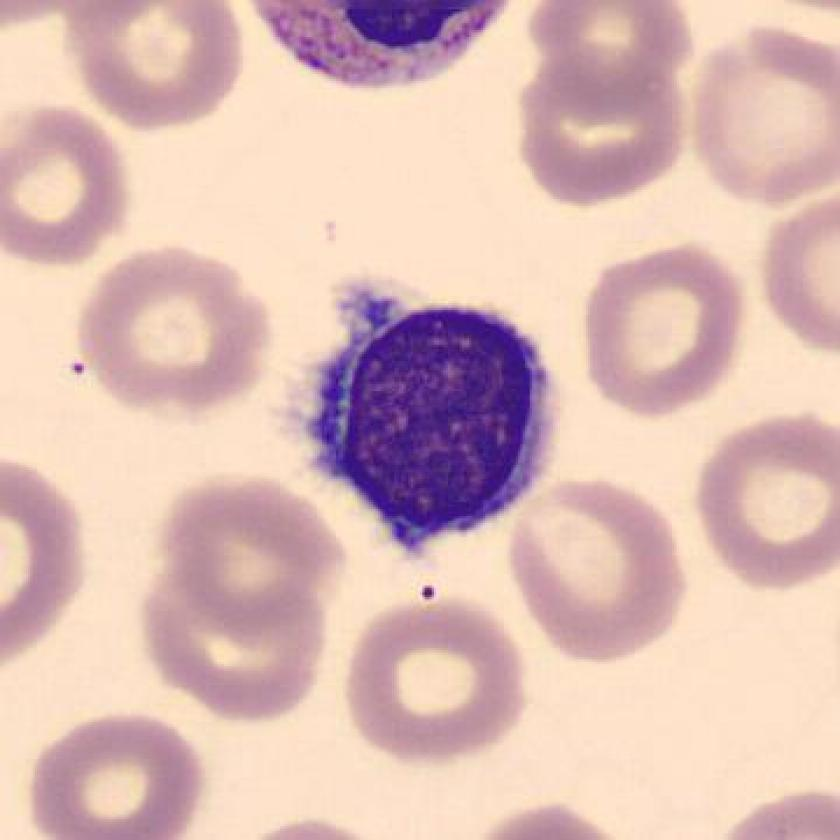lymphocyte: (288, 263, 563, 580)
